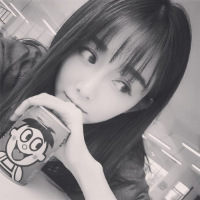face: (47, 14, 158, 127)
